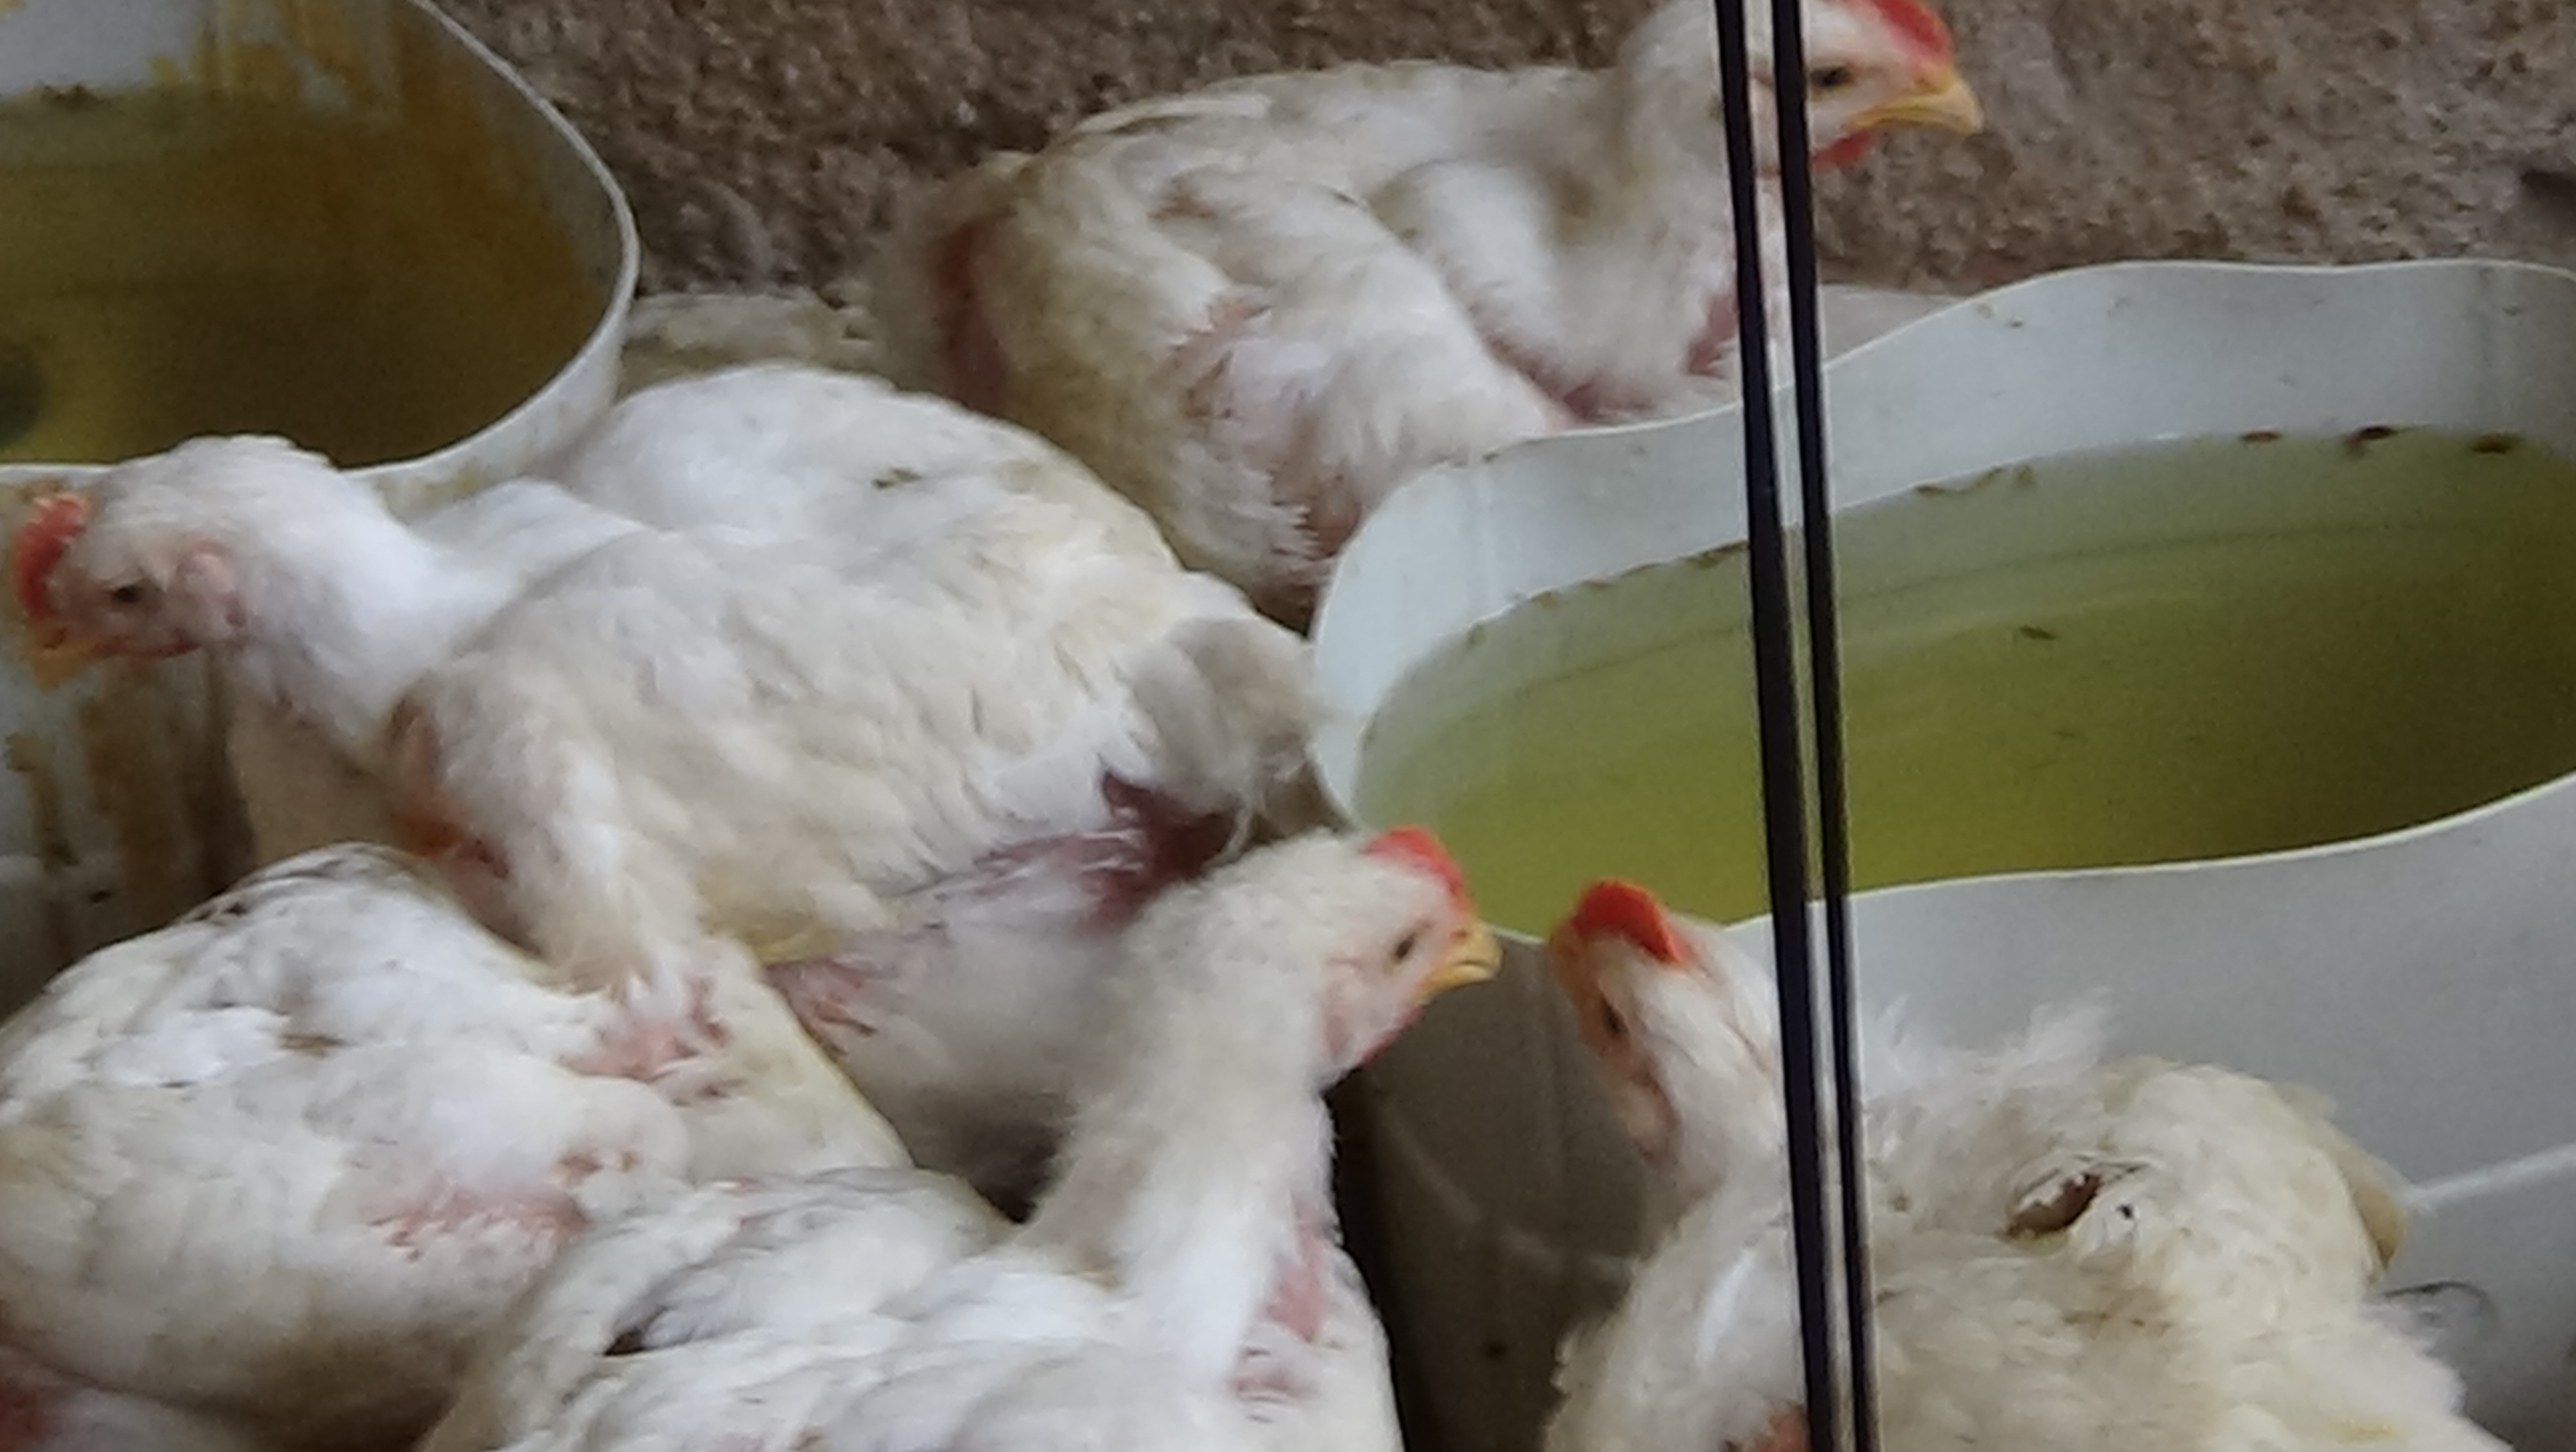Pollos: (0, 349, 1352, 891), (863, 0, 1976, 620), (469, 823, 1516, 1452), (1543, 884, 2473, 1452), (0, 845, 690, 1447)
